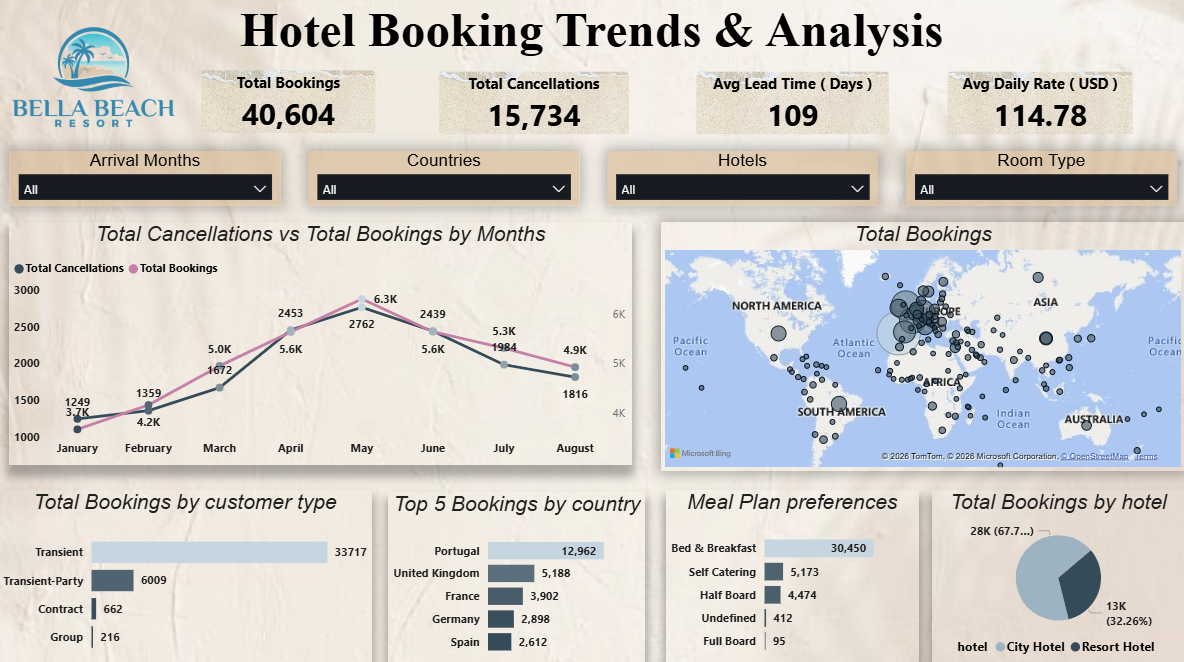

Layout of this report page (visuals, bound fields, positions):
{"tool":"powerbi","page":{"name":"Overview","canvas":[1280,720],"ordinal":0},"visuals":[{"type":"slicer","title":"Hotels","fields":{"Values":["hotel_revenue.hotel"]},"box":[655.8,166.3,293,59.3],"z":2000},{"type":"slicer","title":"Countries","fields":{"Values":["hotel_revenue.Country Full Name"]},"box":[333.7,166.3,293,59.3],"z":3000},{"type":"textbox","box":[82.2,0,1115.9,86.3],"z":4000},{"type":"slicer","title":"Arrival Months","fields":{"Values":["hotel_revenue.arrival_date_month"]},"box":[12.8,166.3,293,59.3],"z":5000},{"type":"image","box":[12.8,0,181.4,173.3],"z":6000},{"type":"cardVisual","fields":{"Data":["Measure.Avg Lead Time"]},"box":[735.8,63.3,242.6,102.4],"z":7000},{"type":"cardVisual","fields":{"Data":["Measure.Cancellation Rate"]},"box":[458.2,63.3,239.9,102.4],"z":8000},{"type":"cardVisual","fields":{"Data":["Measure.Total Bookings"]},"box":[202.1,62,222.4,102.4],"z":9000},{"type":"cardVisual","fields":{"Data":["Measure.Avg Daily Rate"]},"box":[1006.7,63.3,234.5,102.4],"z":10000},{"type":"pieChart","fields":{"Category":["hotel_revenue.hotel"],"Y":["Measure.Total Bookings"]},"box":[1007,531.4,273.3,188.4],"z":11000},{"type":"map","title":"Total Bookings","fields":{"Category":["hotel_revenue.country"],"Size":["Measure.Total Bookings"]},"box":[417.8,531,285.7,188.7],"z":12000},{"type":"barChart","title":"Top 5 Bookings by country","fields":{"Y":["Measure.Top 5 Countries Bookings"],"Category":["hotel_revenue.Country Full Name"]},"box":[699.4,242.6,571.4,261.4],"z":13000},{"type":"barChart","title":"Total Bookings by customer type","fields":{"Category":["hotel_revenue.customer_type"],"Y":["Measure.Total Bookings"]},"box":[0,531.6,403.5,188.4],"z":14000},{"type":"lineChart","title":"Total Cancellations vs Total Bookings by Months","fields":{"Category":["Date Table.Month"],"Y":["Measure.Total Cancellations"],"Y2":["Measure.Total Bookings"]},"box":[12.8,243,670.9,261.6],"z":15000},{"type":"slicer","title":"Room Type","fields":{"Values":["hotel_revenue.assigned_room_type"]},"box":[977.9,166.3,293,59.3],"z":16000},{"type":"clusteredBarChart","title":"Meal Plan preferences","fields":{"Y":["Measure.Total Bookings"],"Category":["hotel_revenue.Meal Plan"]},"box":[719.8,531.4,273.3,188.4],"z":17000}]}

Visuals, with their boxes in screenshot pixels (x1, y1, x2, y2), scaled from the page's 1280x720 canvas onto the 1184x662 screenshot:
"Hotels" slicer: locate(607, 153, 878, 207)
"Countries" slicer: locate(309, 153, 580, 207)
textbox: locate(76, 0, 1108, 79)
"Arrival Months" slicer: locate(12, 153, 283, 207)
image: locate(12, 0, 180, 159)
cardVisual - Measure.Avg Lead Time: locate(681, 58, 905, 152)
cardVisual - Measure.Cancellation Rate: locate(424, 58, 646, 152)
cardVisual - Measure.Total Bookings: locate(187, 57, 393, 151)
cardVisual - Measure.Avg Daily Rate: locate(931, 58, 1148, 152)
pieChart - hotel_revenue.hotel x Measure.Total Bookings: locate(931, 489, 1183, 661)
"Total Bookings" map: locate(386, 488, 651, 661)
"Top 5 Bookings by country" barChart: locate(647, 223, 1175, 463)
"Total Bookings by customer type" barChart: locate(0, 489, 373, 661)
"Total Cancellations vs Total Bookings by Months" lineChart: locate(12, 223, 632, 464)
"Room Type" slicer: locate(905, 153, 1176, 207)
"Meal Plan preferences" clusteredBarChart: locate(666, 489, 919, 661)
